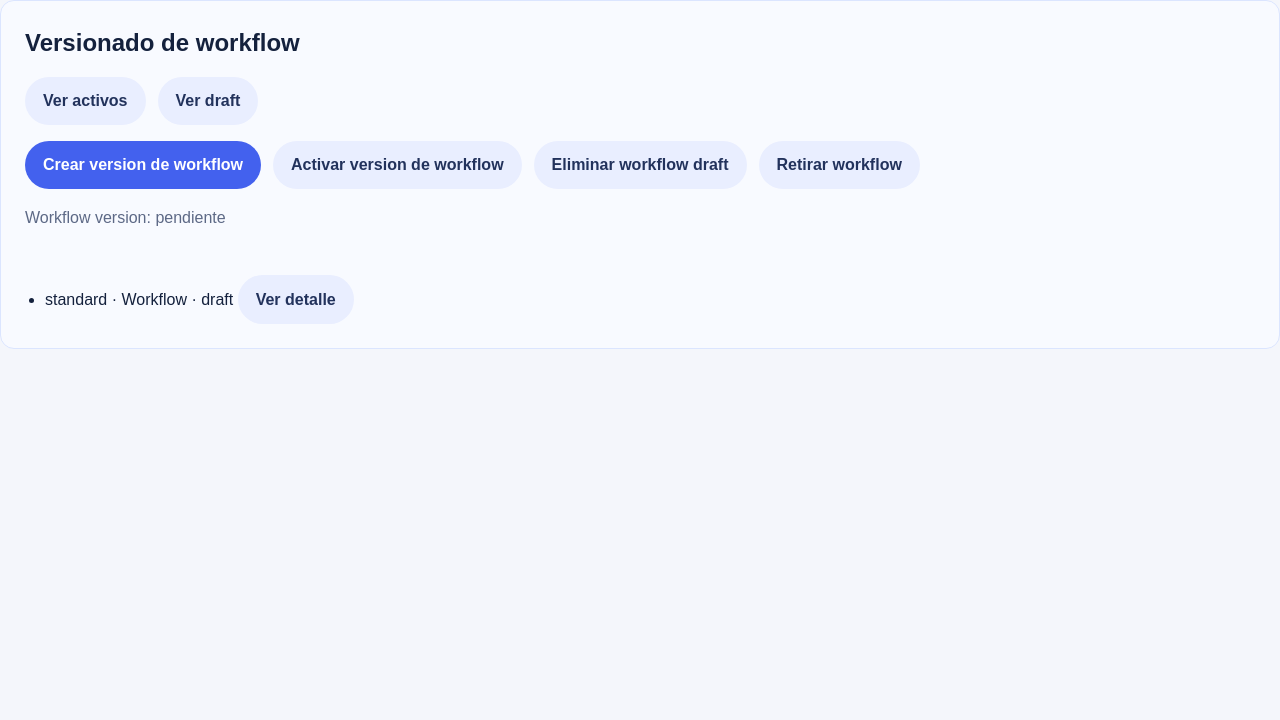
Test: engine admin lifecycle › renders workflow detail and distinct retire/delete semantics
This screenshot has width=1280, height=720.
Click the button "Ver detalle". click: (296, 299)
box: [238,275,354,324]
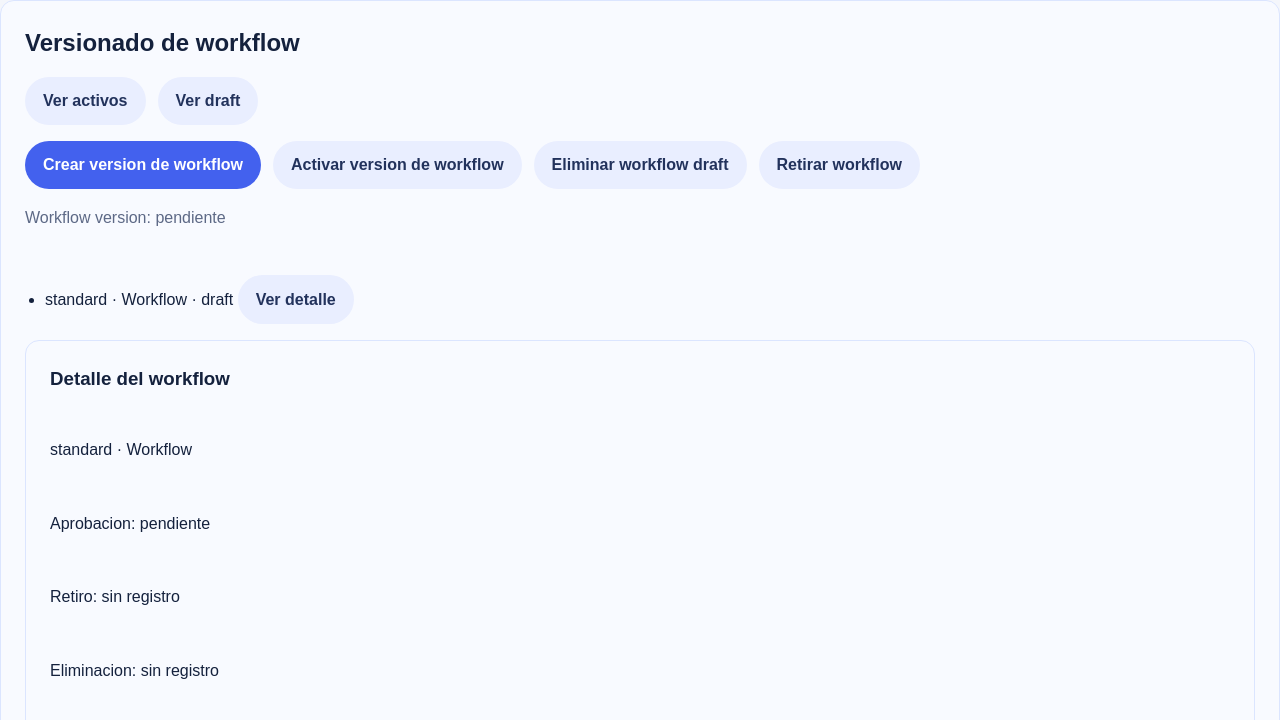
Check: the text "Aprobacion: pendiente" is shown, box [50,515,210,532]
Check: the text "Retiro: sin registro" is shown, box [50,588,180,606]
Check: the text "Eliminacion: sin registro" is shown, box [50,662,219,679]
